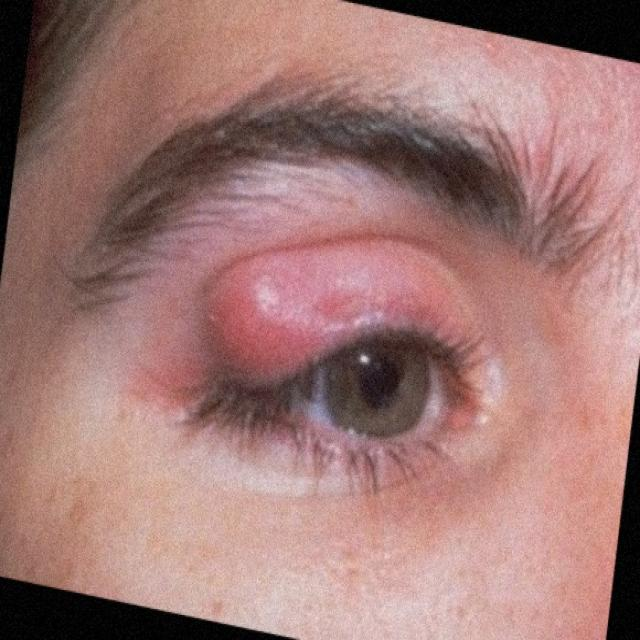Chalazion: (179, 239, 489, 500)
